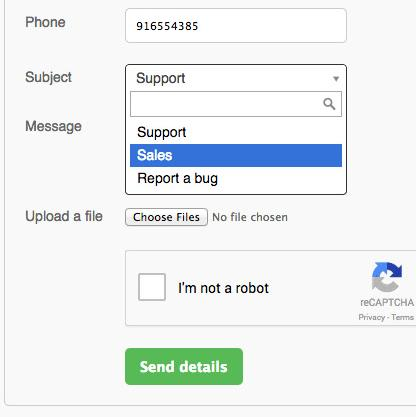button: (122, 344, 245, 388), (124, 205, 210, 229)
checkbox: (133, 267, 176, 306)
checkbox_with_label: (130, 262, 269, 306)
field: (124, 5, 348, 47), (128, 88, 343, 121)
field_with_label: (25, 3, 350, 50), (24, 204, 212, 231)
